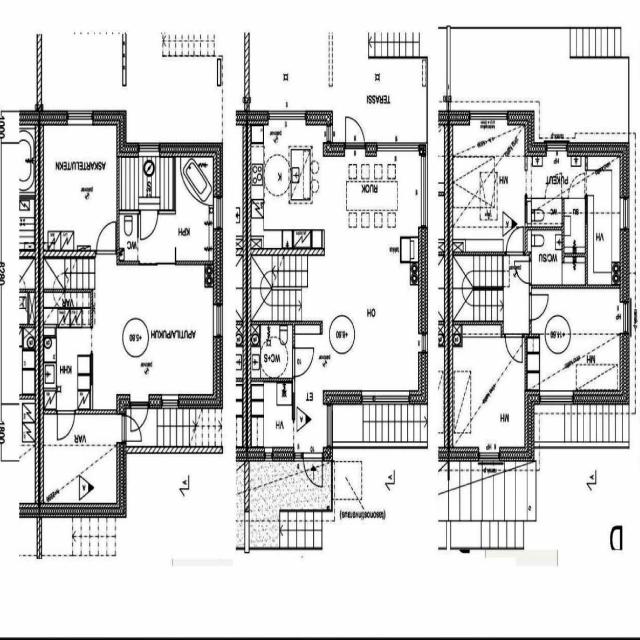door: (304, 447, 322, 489), (346, 115, 364, 157), (131, 394, 148, 435), (116, 416, 143, 441), (292, 348, 314, 376), (97, 223, 115, 254), (140, 210, 158, 239), (529, 294, 548, 320), (58, 410, 74, 440), (506, 333, 522, 362), (507, 228, 523, 255), (515, 262, 531, 282)
